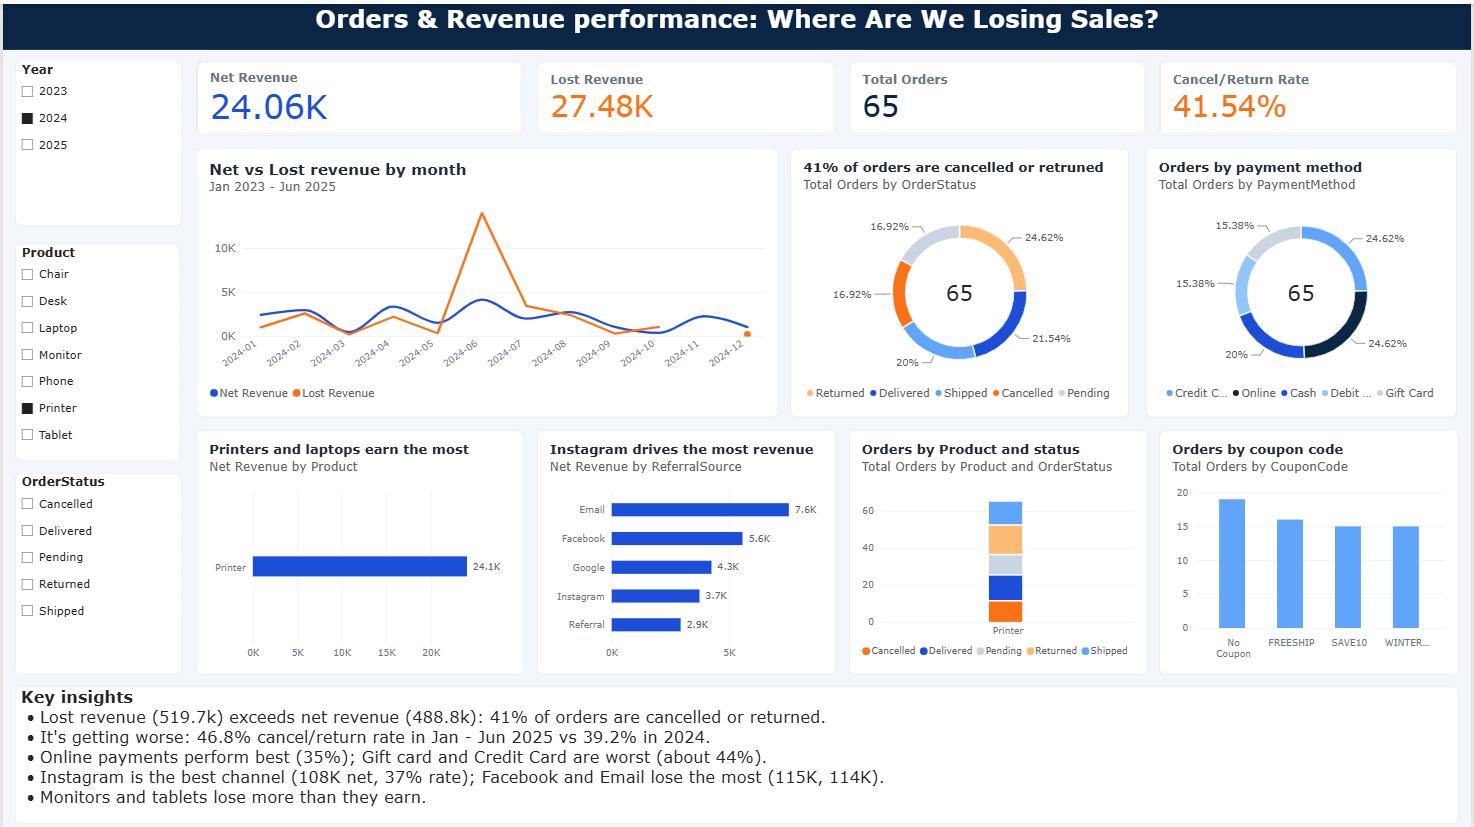

Layout of this report page (visuals, bound fields, positions):
{"tool":"powerbi","page":{"name":"Page 1","canvas":[1920,1080],"ordinal":0},"visuals":[{"type":"textbox","box":[0,0,1920,60],"z":0},{"type":"cardVisual","fields":{"Data":["Sheet1.Net Revenue"]},"box":[252.1,75,427,97.7],"z":1000},{"type":"cardVisual","fields":{"Data":["Sheet1.Lost Revenue"]},"box":[697.3,75,390.7,97.7],"z":2000},{"type":"cardVisual","fields":{"Data":["Sheet1.Total Orders Card"]},"box":[1106.1,75,388.4,97.7],"z":3000},{"type":"cardVisual","fields":{"Data":["Sheet1.Cancel/Return Rate"]},"box":[1512.7,75,390.7,97.7],"z":4000},{"type":"lineChart","title":"Net vs Lost revenue by month","fields":{"Category":["Sheet1.Month Year"],"Y":["Sheet1.Net Revenue","Sheet1.Lost Revenue"]},"box":[252.1,188.5,760.9,352.1],"z":5000},{"type":"clusteredBarChart","title":"Printers and laptops earn the most","fields":{"Category":["Sheet1.Product"],"Y":["Sheet1.Net Revenue"]},"box":[252.1,556.5,427,320.3],"z":6000},{"type":"clusteredBarChart","title":"Instagram drives the most revenue","fields":{"Category":["Sheet1.ReferralSource"],"Y":["Sheet1.Net Revenue"]},"box":[697.3,556.5,390.7,320.3],"z":7000},{"type":"columnChart","title":"Orders by Product and status","fields":{"Category":["Sheet1.Product"],"Series":["Sheet1.OrderStatus"],"Y":["Sheet1.Total Orders"]},"box":[1106.1,556.5,390.7,320.3],"z":8000},{"type":"clusteredColumnChart","title":"Orders by coupon code","fields":{"Category":["Sheet1.CouponCode"],"Y":["Sheet1.Total Orders"]},"box":[1512.7,556.5,390.7,320.3],"z":9000},{"type":"donutChart","title":"41% of orders are cancelled or retruned","fields":{"Category":["Sheet1.OrderStatus"],"Y":["Sheet1.Total Orders"]},"box":[1028.9,188.5,442.9,352.1],"z":10000},{"type":"donutChart","title":"Orders by payment method","fields":{"Category":["Sheet1.PaymentMethod"],"Y":["Sheet1.Total Orders"]},"box":[1494.5,188.5,406.6,352.1],"z":11000},{"type":"slicer","fields":{"Values":["Sheet1.Date.Variation.Date Hierarchy.Year"]},"box":[15.9,75,218,215.8],"z":12000},{"type":"slicer","fields":{"Values":["Sheet1.Product"]},"box":[15.9,313.4,215.8,283.9],"z":13000},{"type":"slicer","fields":{"Values":["Sheet1.OrderStatus"]},"box":[15.9,613.3,218,263.5],"z":14000},{"type":"textbox","box":[15.9,892.6,1887.5,179.4],"z":14001}]}

Visuals, with their boxes in screenshot pixels (x1, y1, x2, y2), scaled from the page's 1920x1080 canvas onto the 1474x827 screenshot:
textbox: 0 0 1473 46
cardVisual - Sheet1.Net Revenue: 194 57 521 132
cardVisual - Sheet1.Lost Revenue: 535 57 835 132
cardVisual - Sheet1.Total Orders Card: 849 57 1147 132
cardVisual - Sheet1.Cancel/Return Rate: 1161 57 1461 132
"Net vs Lost revenue by month" lineChart: 194 144 778 414
"Printers and laptops earn the most" clusteredBarChart: 194 426 521 671
"Instagram drives the most revenue" clusteredBarChart: 535 426 835 671
"Orders by Product and status" columnChart: 849 426 1149 671
"Orders by coupon code" clusteredColumnChart: 1161 426 1461 671
"41% of orders are cancelled or retruned" donutChart: 790 144 1130 414
"Orders by payment method" donutChart: 1147 144 1459 414
slicer - Sheet1.Date.Variation.Date Hierarchy.Year: 12 57 180 223
slicer - Sheet1.Product: 12 240 178 457
slicer - Sheet1.OrderStatus: 12 470 180 671
textbox: 12 684 1461 821
